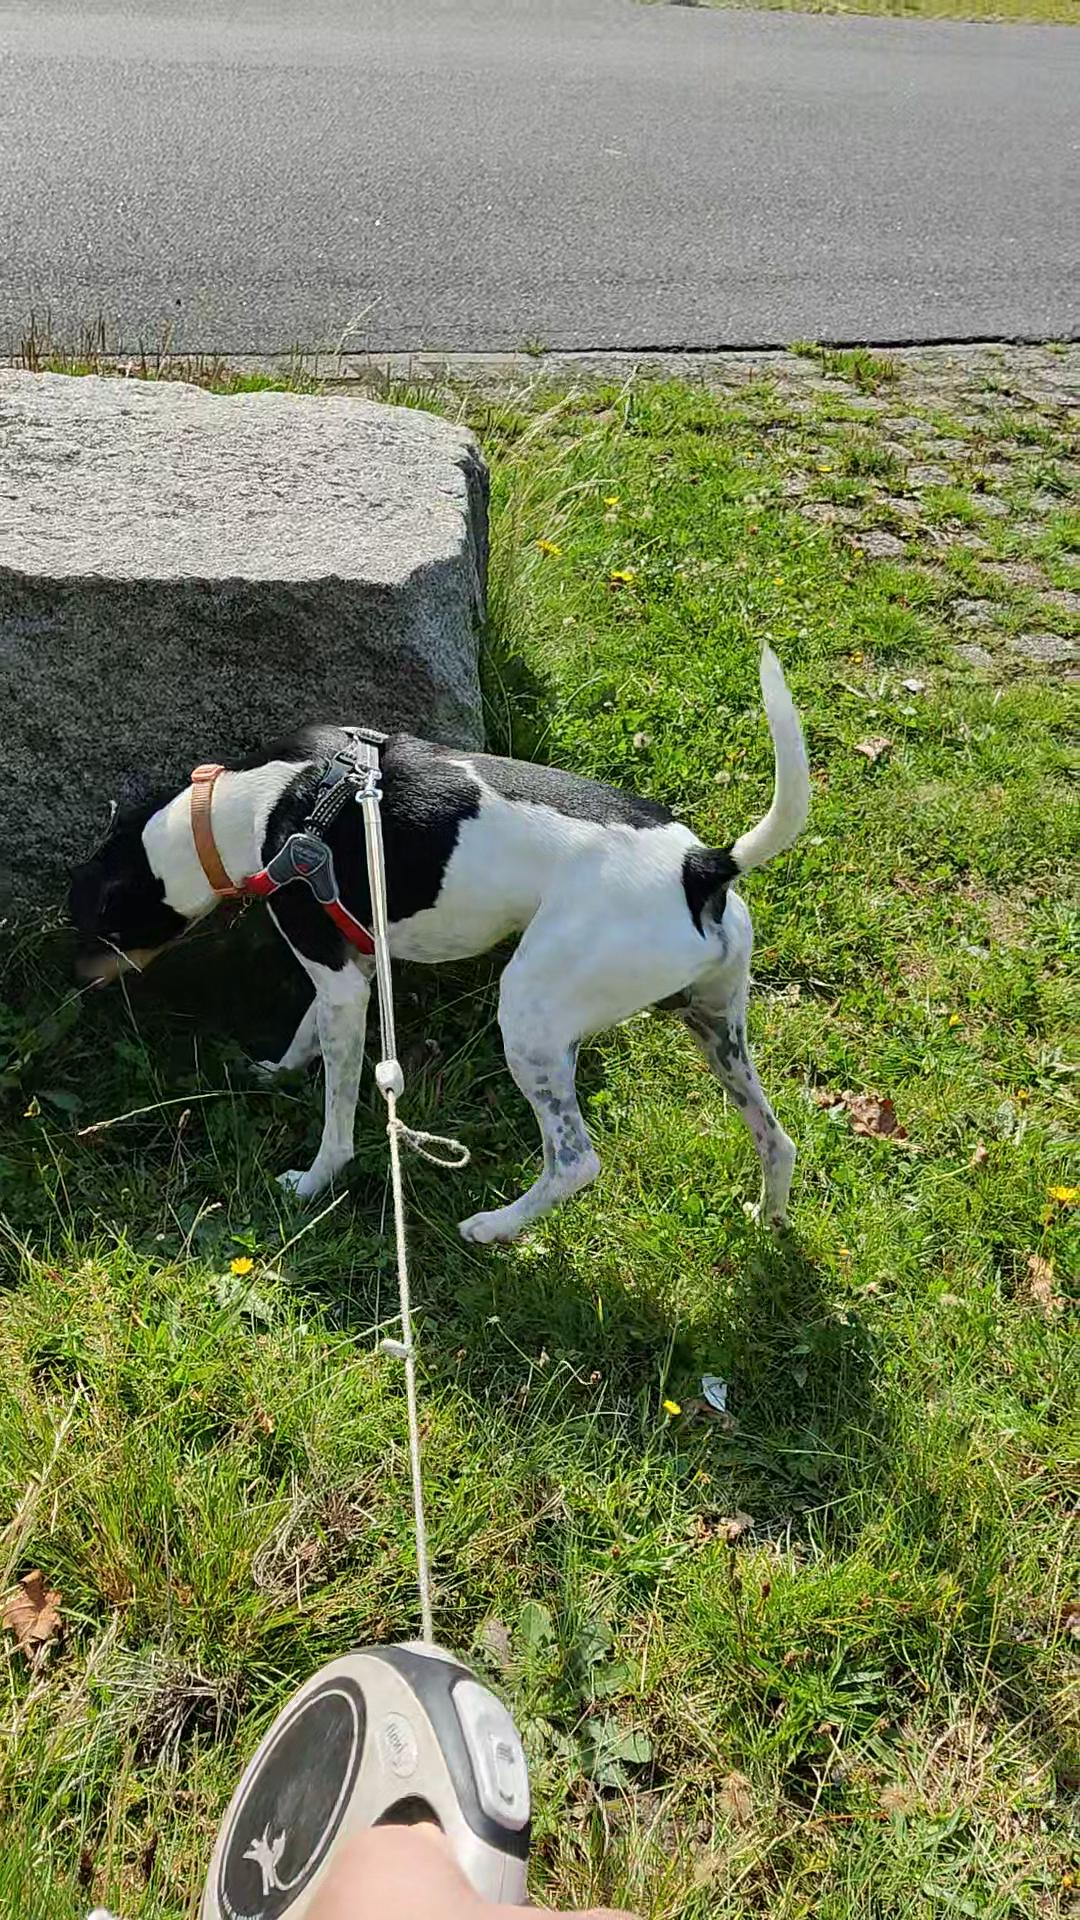Dog: (40, 628, 820, 1247)
